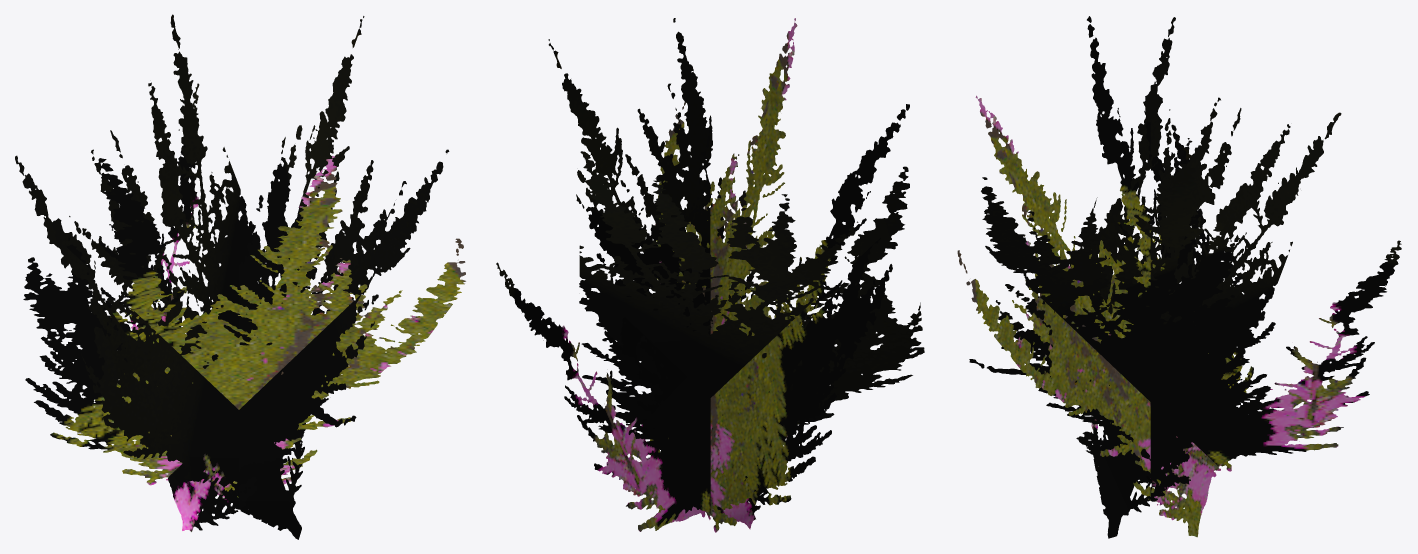
File: heather_06_LOD0.fbx
3 views of the same model, side by side, from view 1: azimuth 30°, elevation 25°; view 2: azimuth 150°, elevation 25°; view 3: azimuth 270°, elevation 25° (orthographic). The views are drawn at different scales.
Parts seen in each view (by area): view 1: heather_06_LOD0; view 2: heather_06_LOD0; view 3: heather_06_LOD0.
Boxes of the visible parts, left/top/right/bottom form: heather_06_LOD0: left=15, top=14, right=465, bottom=539; heather_06_LOD0: left=496, top=18, right=924, bottom=532; heather_06_LOD0: left=957, top=16, right=1401, bottom=538.
Bounding box in the file's own units: 66.35 × 83.51 × 74.6.
